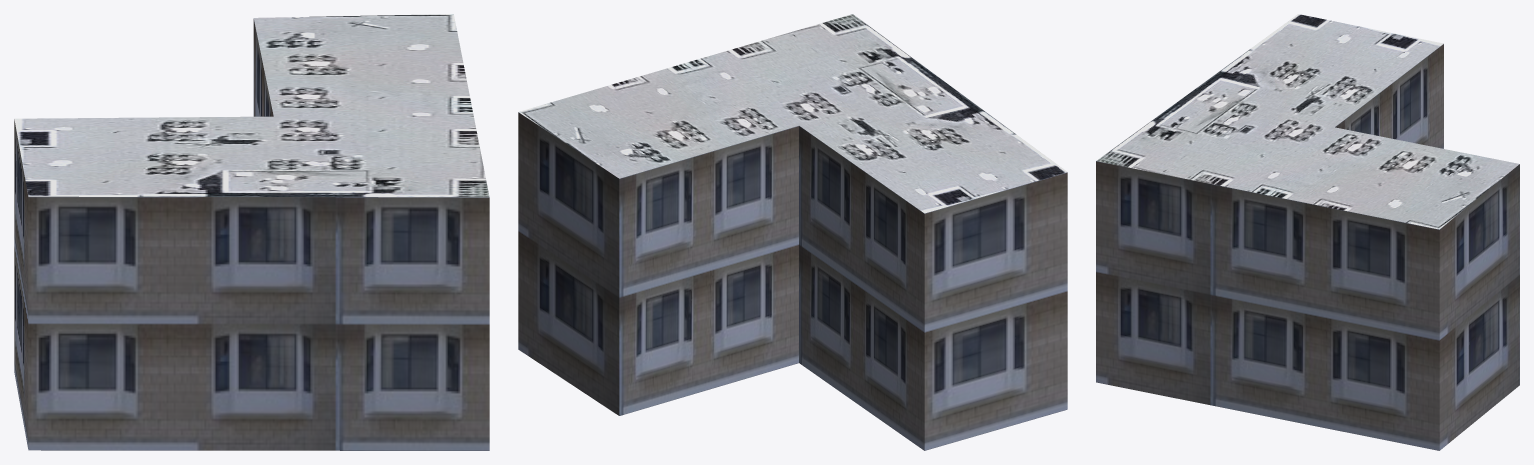
The model's file is ResTex__650.fbx.
3 views of the same model, side by side, from view 1: azimuth 30°, elevation 25°; view 2: azimuth 150°, elevation 25°; view 3: azimuth 270°, elevation 25° (orthographic). The views are drawn at different scales.
Parts seen in each view (by area): view 1: CityEngineMaterial_3_m, CityEngineMaterial_m; view 2: CityEngineMaterial_3_m, CityEngineMaterial_m; view 3: CityEngineMaterial_3_m, CityEngineMaterial_m.
Part boxes in pixels (x1,y1,x2,y2): CityEngineMaterial_3_m: [14, 19, 489, 450]; CityEngineMaterial_m: [14, 14, 489, 197]; CityEngineMaterial_3_m: [518, 112, 1067, 450]; CityEngineMaterial_m: [518, 14, 1067, 213]; CityEngineMaterial_3_m: [1096, 44, 1519, 450]; CityEngineMaterial_m: [1096, 14, 1519, 229].
Size of the model in its own units: 12.53 by 6 by 10.41.
Materials: 2 (2 with a texture image).
